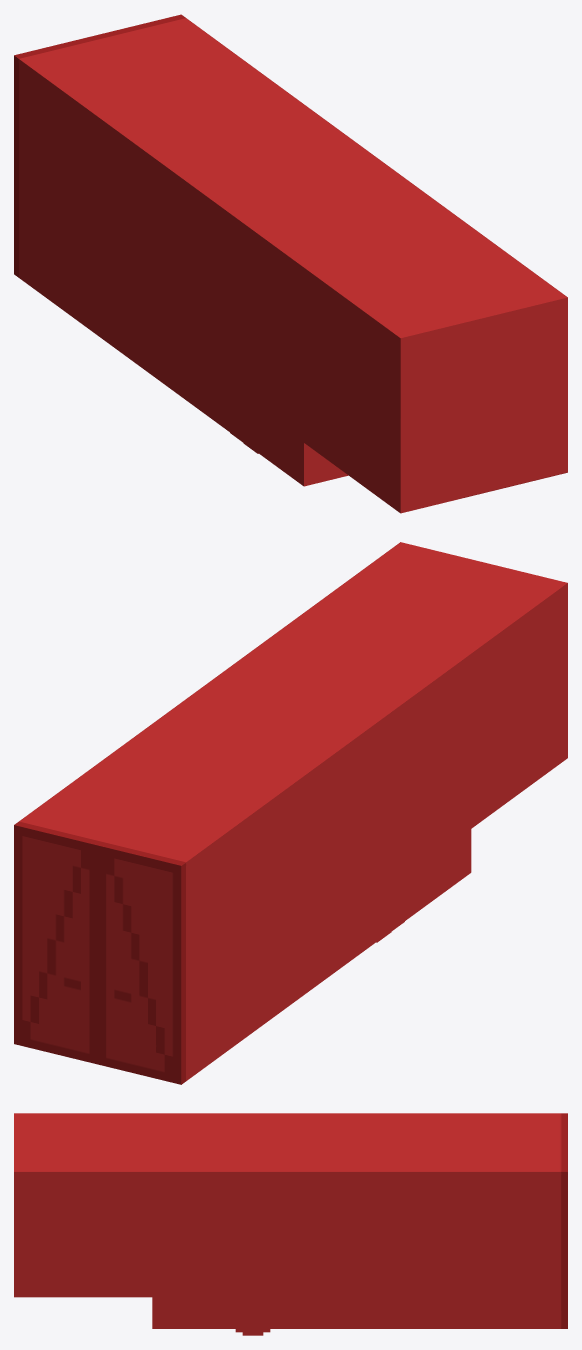
File: Trailer_Box_Var2_3.obj
The picture shows the model from 3 angles, top to bottom: view 1: azimuth 30°, elevation 25°; view 2: azimuth 150°, elevation 25°; view 3: azimuth 270°, elevation 25°; orthographic projection. The views are drawn at different scales.
Visible parts, largest first — view 1: Trailer_Box_Var2_3_Trailer_Box_Var2_3.001; view 2: Trailer_Box_Var2_3_Trailer_Box_Var2_3.001; view 3: Trailer_Box_Var2_3_Trailer_Box_Var2_3.001.
Part boxes in pixels (<box>): Trailer_Box_Var2_3_Trailer_Box_Var2_3.001: <box>14,14,567,513</box>; Trailer_Box_Var2_3_Trailer_Box_Var2_3.001: <box>14,542,567,1084</box>; Trailer_Box_Var2_3_Trailer_Box_Var2_3.001: <box>14,1113,567,1335</box>.
Bounding box in the file's own units: 2 × 2.7 × 8.
